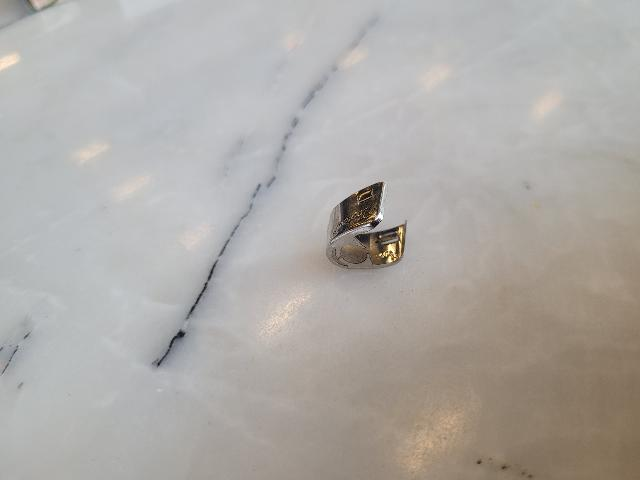Metal: (324, 178, 405, 275)
